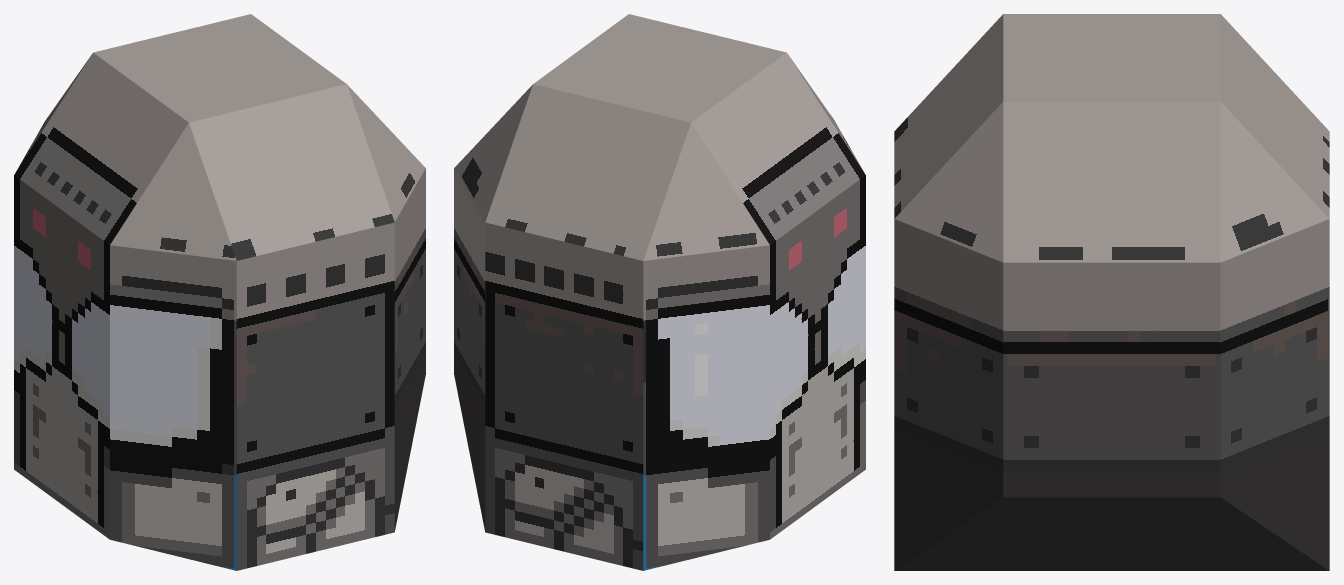
File: StandardHead.gltf
The picture shows the model from 3 angles, left to right: view 1: azimuth 30°, elevation 25°; view 2: azimuth 150°, elevation 25°; view 3: azimuth 270°, elevation 25°; orthographic projection. The views are drawn at different scales.
Visible parts, largest first — view 1: StandardHead; view 2: StandardHead; view 3: StandardHead.
Boxes of the visible parts, bbox=[...] form: StandardHead: bbox=[14, 14, 425, 570]; StandardHead: bbox=[454, 14, 865, 570]; StandardHead: bbox=[894, 14, 1329, 570].
Bounding box in the file's own units: 0.25 × 0.3125 × 0.2625.
Materials: 1 (1 with a texture image).
